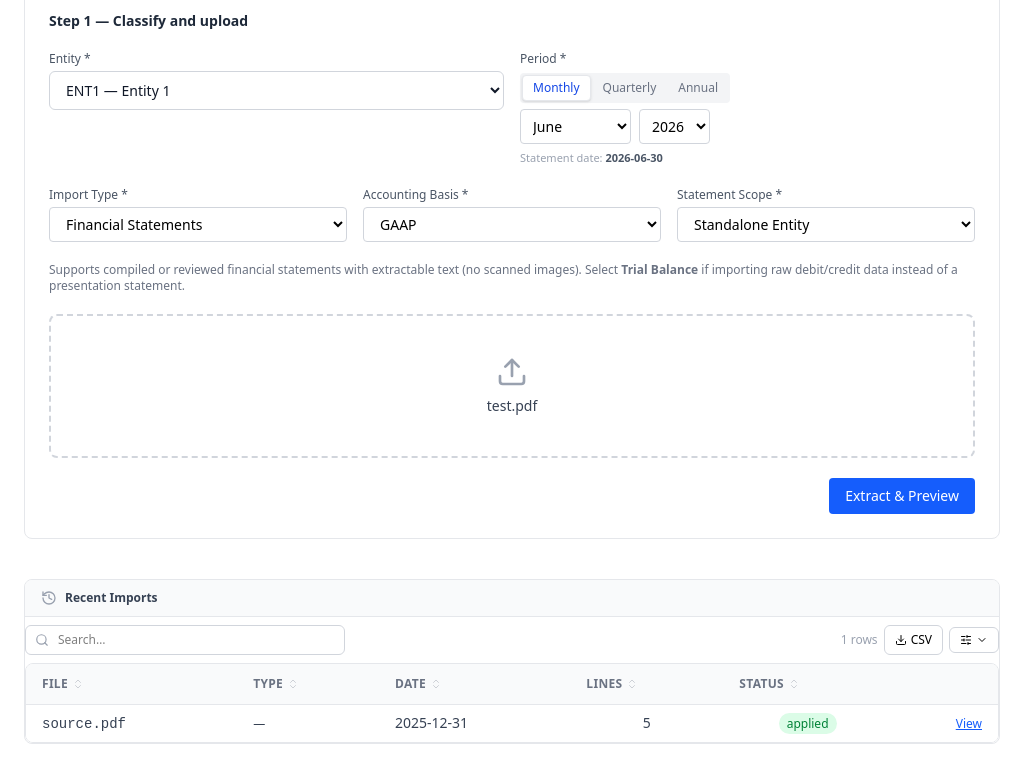
PDF-P10: entity name mismatch warning › does not show mismatch warning when PDF entity name matches selected entity
Earlier steps of the test are not shown.
(page scrolled)
Click the button with test id "parse-pdf-btn" at [902, 496], box left=829, top=478, right=975, bottom=514
(page scrolled)
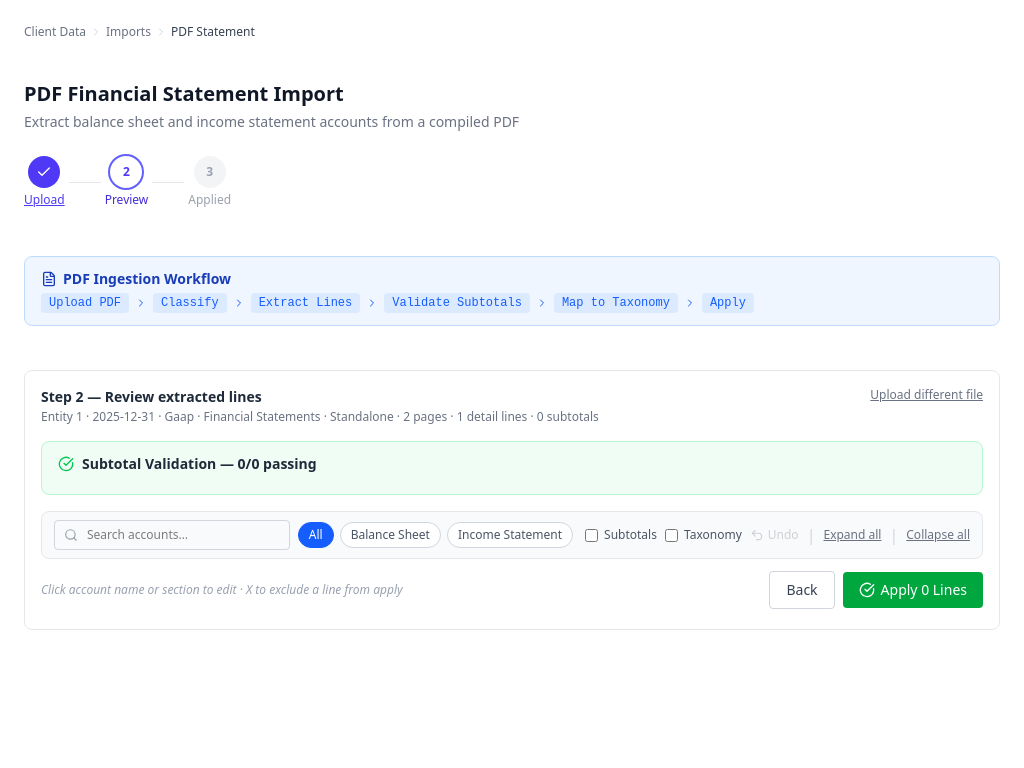
Check: the button with test id "apply-pdf-btn" is shown, box left=843, top=572, right=983, bottom=608
